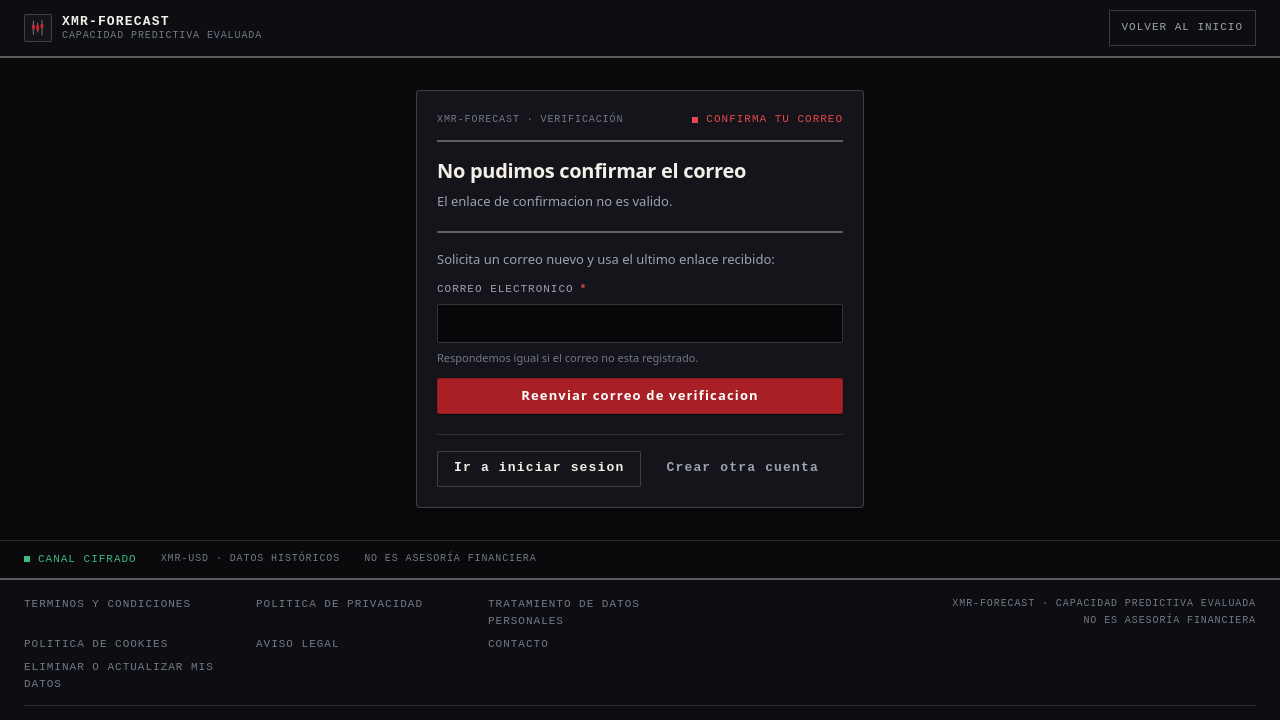
Test: email verification recovery › offers the resend form when the link carries no token
Expected: the element with test id "resend-block" is shown, [437,231,843,414]
Expected: the message with test id "verify-error" shows "enlace de confirmacion no es valido", [437,192,672,210]
Type "nuevo@ejemplo.com" into the field labelled "Correo electronico *".
click(640, 323); type("nuevo@ejemplo.com")  # box [437,304,843,342]
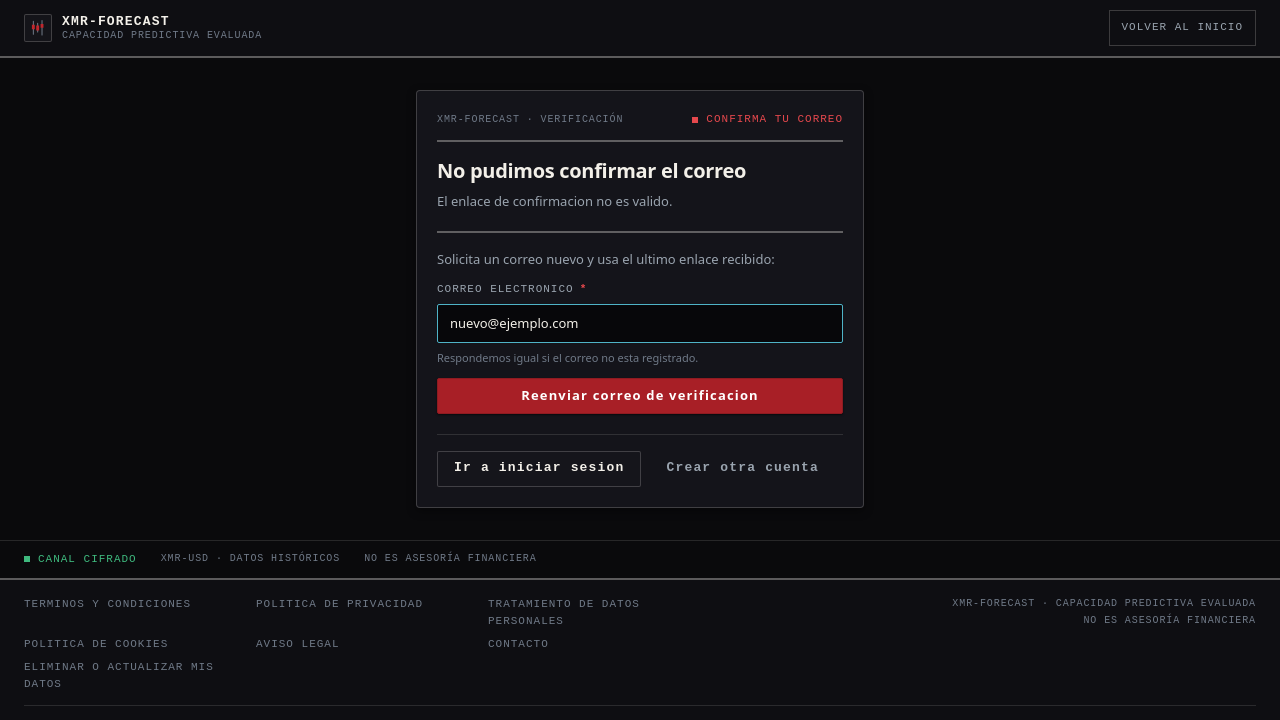
Click the button "Reenviar correo de verificacion".
click(640, 396)  # box [437,378,843,414]
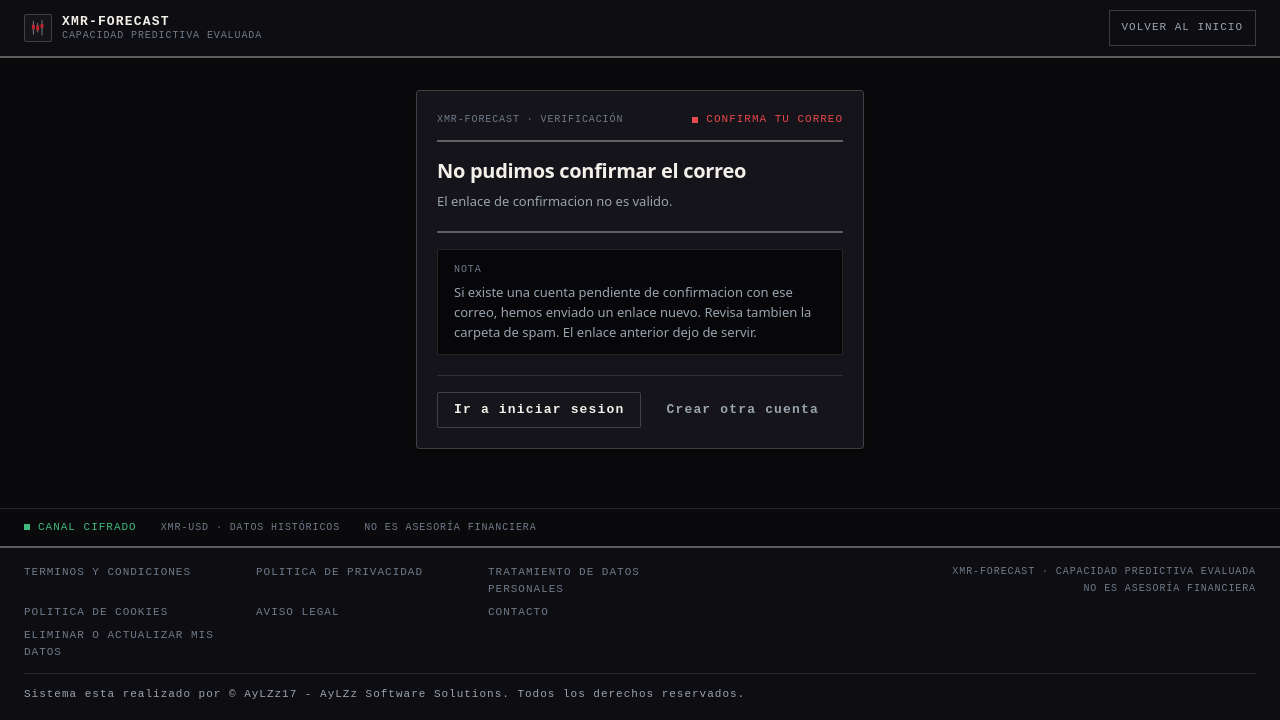
Result: the text "hemos enviado un enlace nuevo" is shown at [454,283,811,341]
